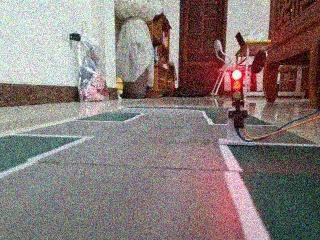red: (221, 63, 247, 113)
